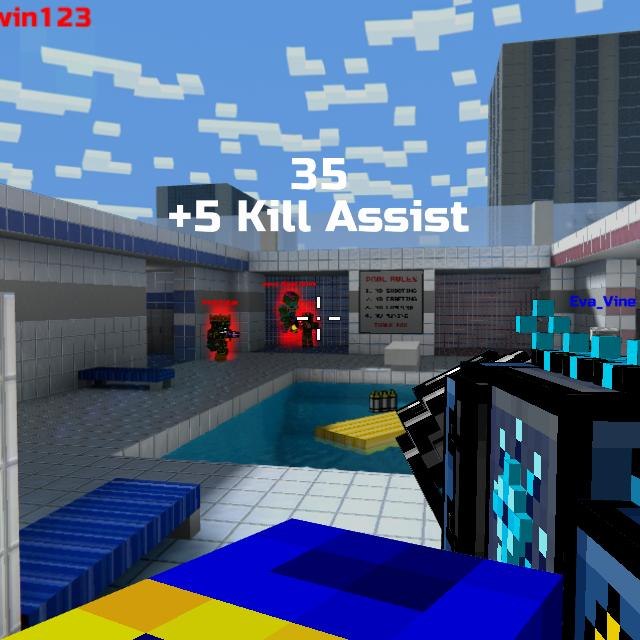Enemy: (208, 315, 240, 362), (276, 293, 300, 334), (298, 313, 319, 347)
